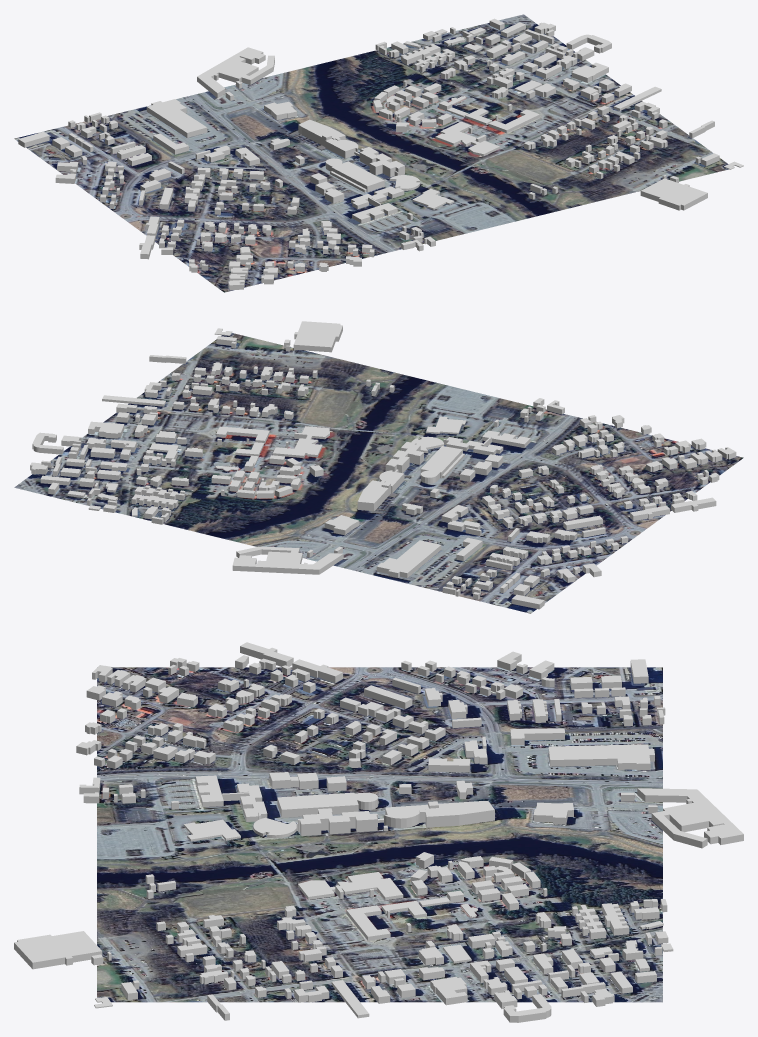
The model's file is frami.dae.
3 views of the same model, one above another, from view 1: azimuth 30°, elevation 25°; view 2: azimuth 150°, elevation 25°; view 3: azimuth 270°, elevation 25° (orthographic). The views are drawn at different scales.
Parts seen in each view (by area): view 1: EXPORT_GOOGLE_SAT_WM, Areas:building; view 2: EXPORT_GOOGLE_SAT_WM, Areas:building; view 3: EXPORT_GOOGLE_SAT_WM, Areas:building.
Boxes of the visible parts, x1,y1,x2,y2 form: EXPORT_GOOGLE_SAT_WM: (14,14,728,292); Areas:building: (18,18,743,290); EXPORT_GOOGLE_SAT_WM: (14,333,743,613); Areas:building: (30,321,736,609); EXPORT_GOOGLE_SAT_WM: (97,667,662,1002); Areas:building: (14,642,743,1022).
Bounding box in the file's own units: 2391 × 1972 × 40.
1 material, 1 textured.
